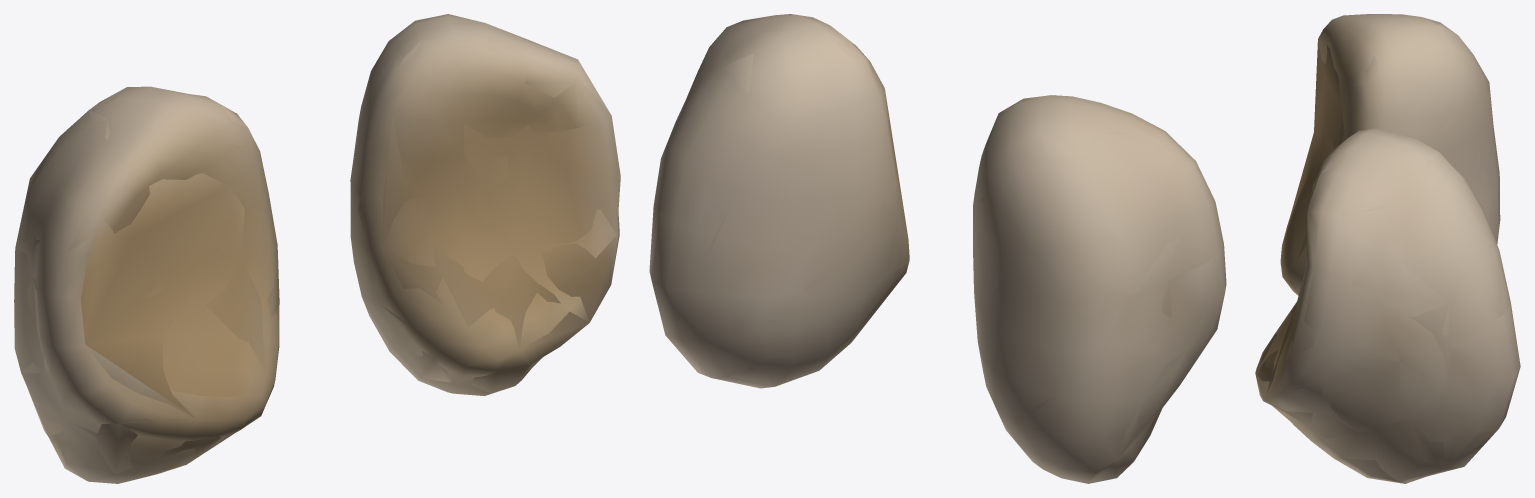
File: BR sesamoidea proximalia.fbx
The picture shows the model from 3 angles, left to right: view 1: azimuth 30°, elevation 25°; view 2: azimuth 150°, elevation 25°; view 3: azimuth 270°, elevation 25°; orthographic projection. The views are drawn at different scales.
Visible parts, largest first — view 1: BR sesamoidea proximalia, BR sesamoidea proximalia low; view 2: BR sesamoidea proximalia, BR sesamoidea proximalia low; view 3: BR sesamoidea proximalia, BR sesamoidea proximalia low.
Part boxes in pixels (box(x1,y1,x2,y2)): BR sesamoidea proximalia: box(14, 14, 619, 483); BR sesamoidea proximalia low: box(15, 18, 620, 474); BR sesamoidea proximalia: box(649, 14, 1226, 483); BR sesamoidea proximalia low: box(653, 14, 1223, 478); BR sesamoidea proximalia: box(1255, 14, 1520, 483); BR sesamoidea proximalia low: box(1255, 22, 1516, 481).
Size of the model in its own units: 5.43 by 3.54 by 2.54.
1 material, 1 textured.
